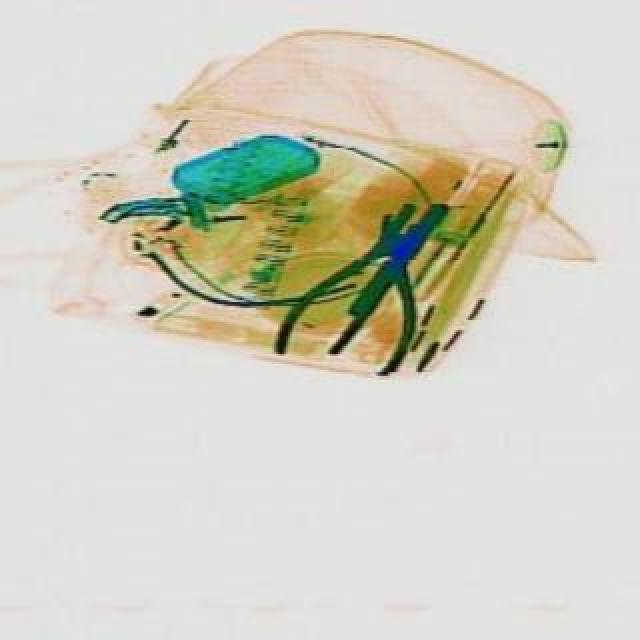wrench: (264, 166, 476, 400)
